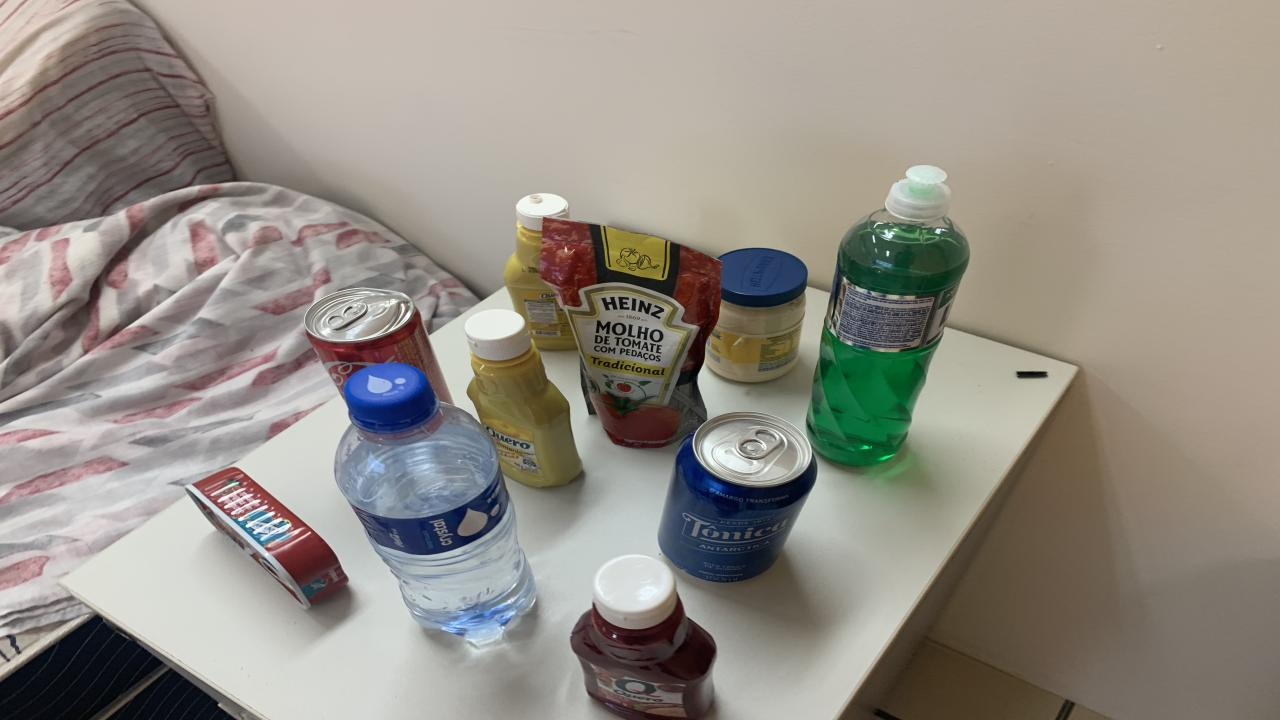Coke-Drinks: (305, 287, 452, 403)
Detergent-Cleanup_Items: (808, 165, 970, 465)
Ketchup-Pantry_Items: (570, 555, 715, 718)
Mayonnaise-Pantry_Items: (705, 248, 808, 382)
Mustard-Pantry_Items: (465, 309, 582, 488), (502, 193, 578, 351)
Tomato_Sauce-Pantry_Items: (540, 218, 722, 448)
Tonic-Drinks: (658, 412, 818, 581)
Tuna_Can-Pantry_Items: (185, 467, 348, 608)
Water_Bottle-Drinks: (335, 362, 535, 641)
